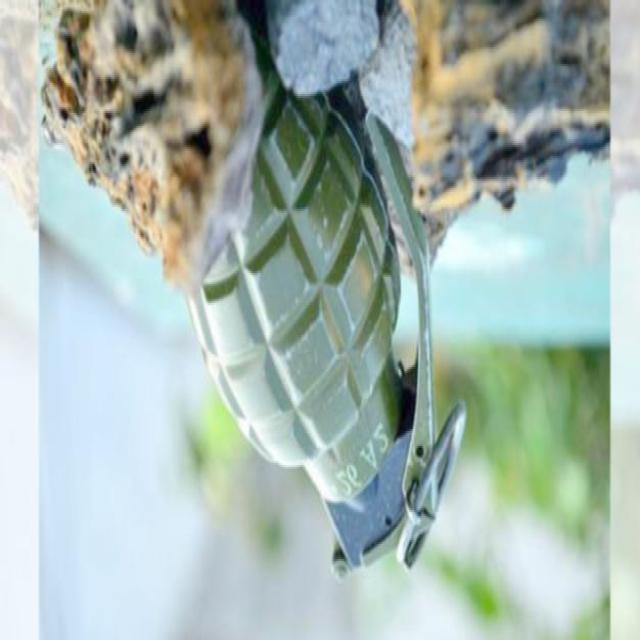grenade: (185, 51, 468, 583)
